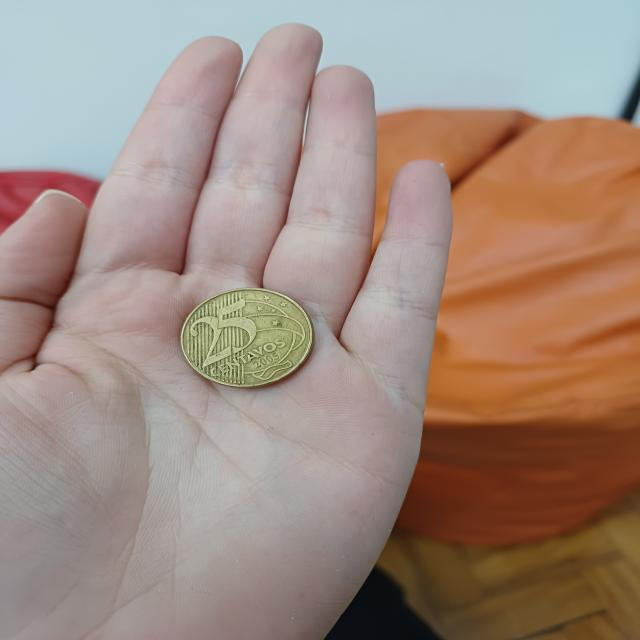25 cents: (176, 287, 316, 389)
